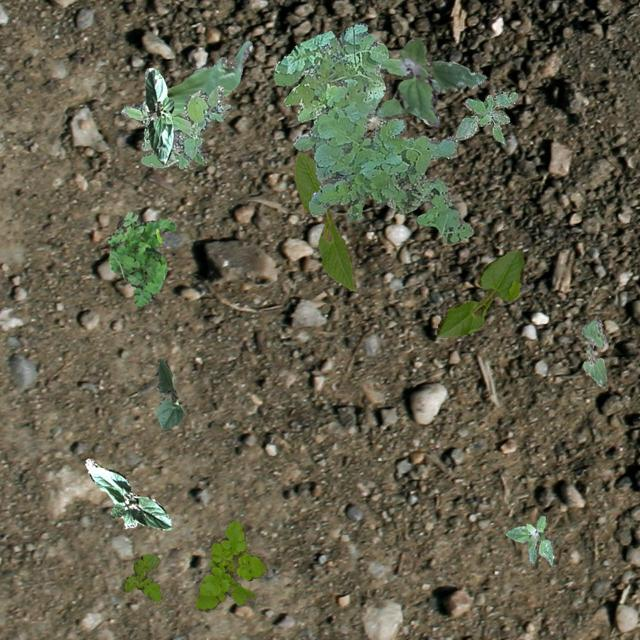crop: (292, 150, 354, 290), (436, 248, 522, 336), (166, 40, 250, 116), (84, 458, 170, 528), (144, 66, 172, 164), (156, 358, 183, 428), (580, 318, 606, 386)
weed: (272, 21, 472, 242), (374, 36, 486, 126), (120, 86, 232, 168), (195, 520, 268, 610), (106, 210, 174, 306), (454, 90, 516, 142), (504, 514, 552, 564), (120, 554, 160, 604)
